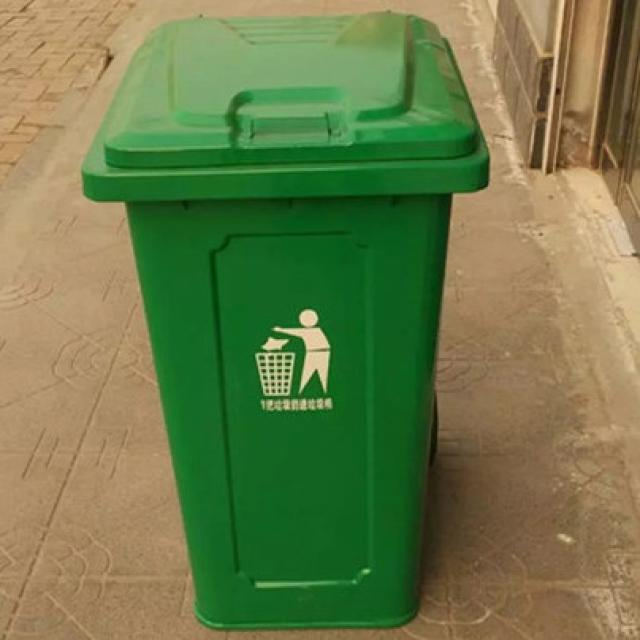garbage_bin: (78, 9, 488, 629)
